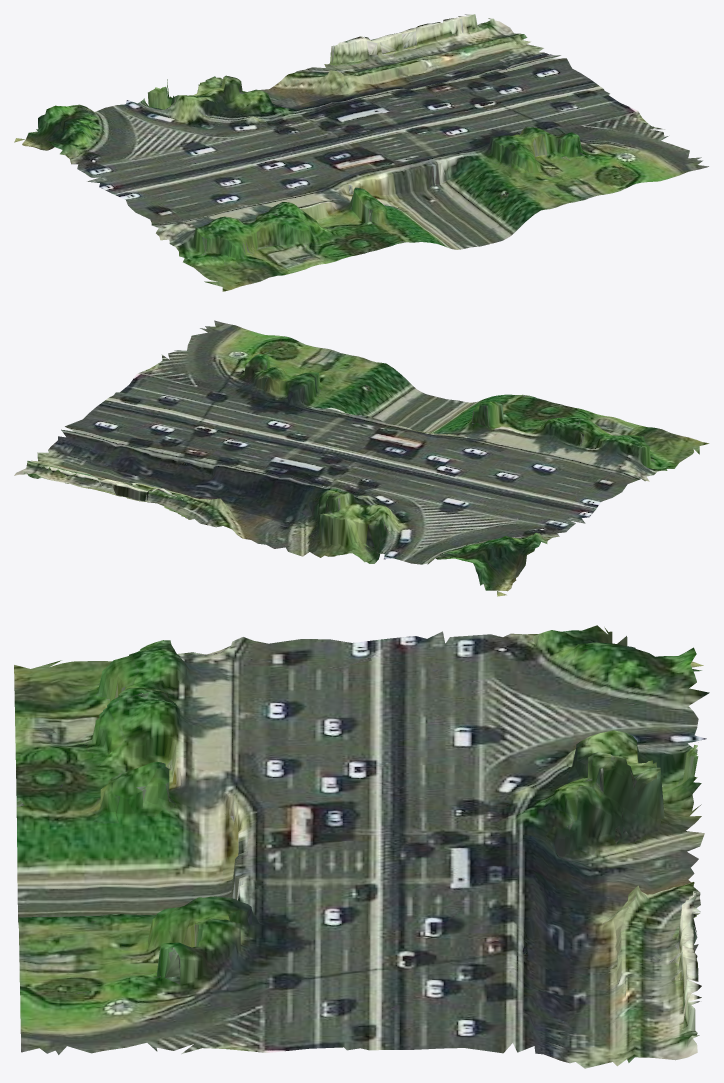
Rendered from Tile_001_000_L14_311.glb.
3 views of the same model, one above another, from view 1: azimuth 30°, elevation 25°; view 2: azimuth 150°, elevation 25°; view 3: azimuth 270°, elevation 25° (orthographic). The views are drawn at different scales.
Visible parts, largest first — view 1: rtc; view 2: rtc; view 3: rtc.
Boxes of the visible parts, bbox=[...] form: rtc: bbox=[14, 14, 708, 291]; rtc: bbox=[14, 320, 709, 596]; rtc: bbox=[14, 625, 709, 1068].
Bounding box in the file's own units: 126 × 13 × 91.36.
1 material, 1 textured.
